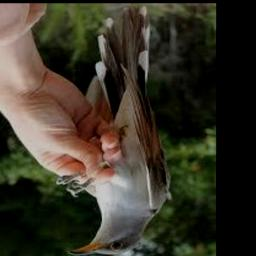Cuckoo: (60, 6, 171, 256)
